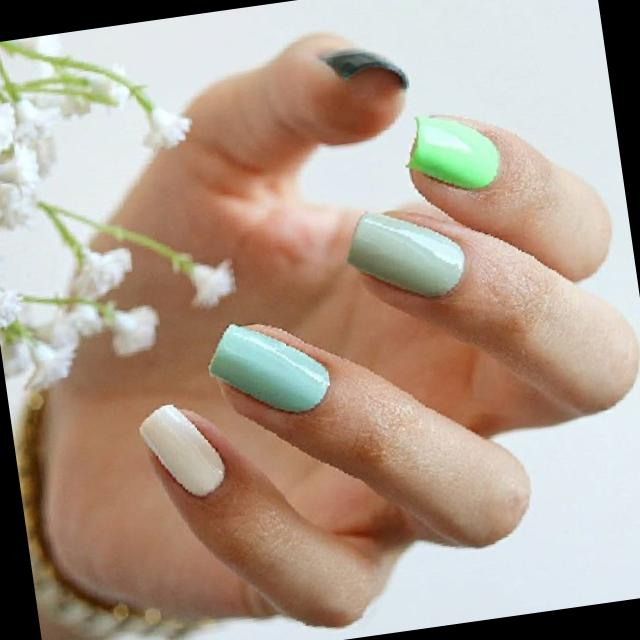Nail: (209, 324, 329, 413), (349, 213, 465, 297), (140, 404, 225, 497), (408, 116, 500, 189), (321, 49, 408, 90)
